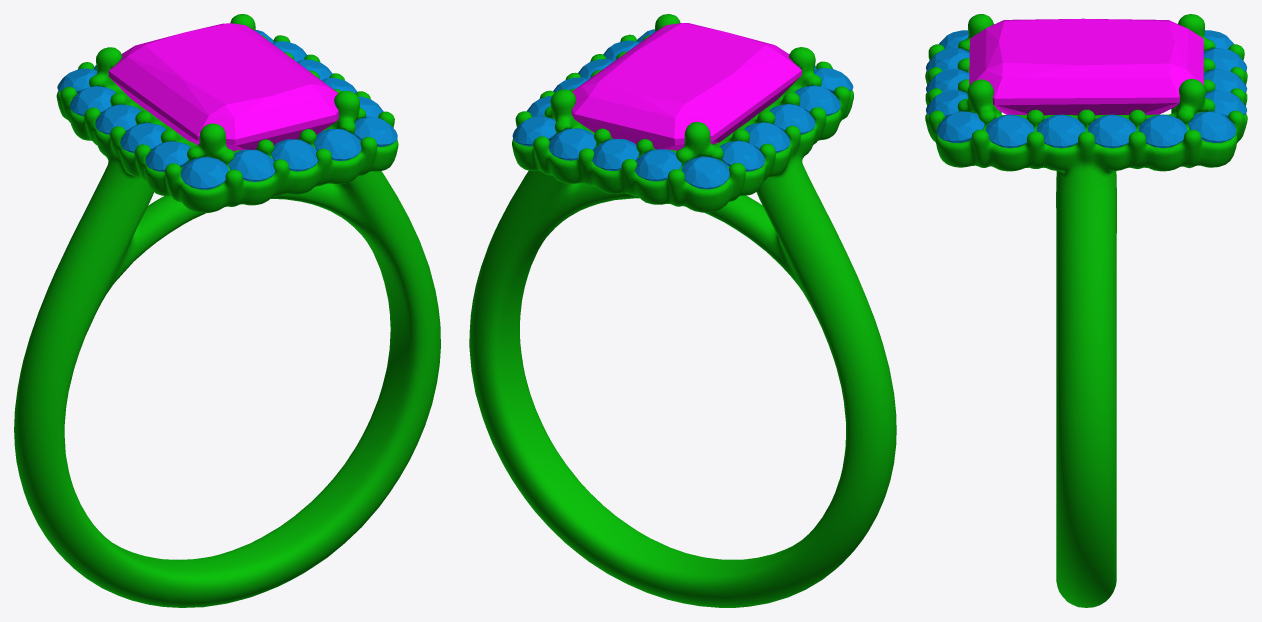
The model's file is BE1BD12R2_RA_200ct_RENDER.glb.
3 renders of one model, left to right at view 1: azimuth 30°, elevation 25°; view 2: azimuth 150°, elevation 25°; view 3: azimuth 270°, elevation 25°, orthographic.
Parts seen in each view (by area): view 1: Metal 01, CS_Diamond_Radiant, Diamond_Round_Gem_HD.013, Diamond_Round_Gem_HD.014, Diamond_Round_Gem_HD.011, Diamond_Round_Gem_HD.017, Diamond_Round_Gem_HD.016, Diamond_Round_Gem_HD.002, Diamond_Round_Gem_HD.012, Diamond_Round_Gem_HD.001, Diamond_Round_Gem_HD.015, Diamond_Round_Gem_HD.004; view 2: Metal 01, CS_Diamond_Radiant, Diamond_Round_Gem_HD.004, Diamond_Round_Gem_HD.006, Diamond_Round_Gem_HD.003, Diamond_Round_Gem_HD, Diamond_Round_Gem_HD.001, Diamond_Round_Gem_HD.015, Diamond_Round_Gem_HD.005, Diamond_Round_Gem_HD.016, Diamond_Round_Gem_HD.002, Diamond_Round_Gem_HD.013; view 3: Metal 01, CS_Diamond_Radiant, Diamond_Round_Gem_HD.008, Diamond_Round_Gem_HD.009, Diamond_Round_Gem_HD.007, Diamond_Round_Gem_HD.010, Diamond_Round_Gem_HD.005, Diamond_Round_Gem_HD.012, Diamond_Round_Gem_HD.011, Diamond_Round_Gem_HD.006, Diamond_Round_Gem_HD, Diamond_Round_Gem_HD.017 (+2 smaller).
Part boxes in pixels (x1=…): Metal 01: x1=14, y1=14, x2=440, y2=607; CS_Diamond_Radiant: x1=108, y1=23, x2=338, y2=151; Diamond_Round_Gem_HD.013: x1=181, y1=156, x2=228, y2=189; Diamond_Round_Gem_HD.014: x1=228, y1=149, x2=275, y2=181; Diamond_Round_Gem_HD.011: x1=314, y1=129, x2=361, y2=160; Diamond_Round_Gem_HD.017: x1=271, y1=139, x2=318, y2=171; Diamond_Round_Gem_HD.016: x1=145, y1=141, x2=190, y2=171; Diamond_Round_Gem_HD.002: x1=95, y1=104, x2=140, y2=134; Diamond_Round_Gem_HD.012: x1=353, y1=116, x2=397, y2=146; Diamond_Round_Gem_HD.001: x1=70, y1=86, x2=115, y2=116; Diamond_Round_Gem_HD.015: x1=120, y1=122, x2=165, y2=153; Diamond_Round_Gem_HD.004: x1=57, y1=68, x2=97, y2=93; Metal 01: x1=469, y1=14, x2=896, y2=607; CS_Diamond_Radiant: x1=571, y1=23, x2=801, y2=150; Diamond_Round_Gem_HD.004: x1=681, y1=156, x2=729, y2=189; Diamond_Round_Gem_HD.006: x1=548, y1=128, x2=596, y2=160; Diamond_Round_Gem_HD.003: x1=635, y1=149, x2=681, y2=181; Diamond_Round_Gem_HD: x1=592, y1=139, x2=639, y2=170; Diamond_Round_Gem_HD.001: x1=720, y1=140, x2=764, y2=171; Diamond_Round_Gem_HD.015: x1=769, y1=103, x2=815, y2=134; Diamond_Round_Gem_HD.005: x1=512, y1=116, x2=556, y2=146; Diamond_Round_Gem_HD.016: x1=795, y1=85, x2=840, y2=115; Diamond_Round_Gem_HD.002: x1=744, y1=122, x2=790, y2=152; Diamond_Round_Gem_HD.013: x1=814, y1=68, x2=853, y2=93; Metal 01: x1=925, y1=14, x2=1247, y2=607; CS_Diamond_Radiant: x1=969, y1=18, x2=1203, y2=115; Diamond_Round_Gem_HD.008: x1=1138, y1=114, x2=1187, y2=148; Diamond_Round_Gem_HD.009: x1=985, y1=114, x2=1034, y2=148; Diamond_Round_Gem_HD.007: x1=1087, y1=114, x2=1136, y2=148; Diamond_Round_Gem_HD.010: x1=1036, y1=114, x2=1085, y2=148; Diamond_Round_Gem_HD.005: x1=1188, y1=111, x2=1236, y2=142; Diamond_Round_Gem_HD.012: x1=936, y1=111, x2=984, y2=142; Diamond_Round_Gem_HD.011: x1=926, y1=90, x2=967, y2=117; Diamond_Round_Gem_HD.006: x1=1205, y1=90, x2=1246, y2=117; Diamond_Round_Gem_HD: x1=1203, y1=69, x2=1247, y2=93; Diamond_Round_Gem_HD.017: x1=926, y1=69, x2=969, y2=92.
Size of the model in its own units: 20.03 by 24.51 by 13.21.
